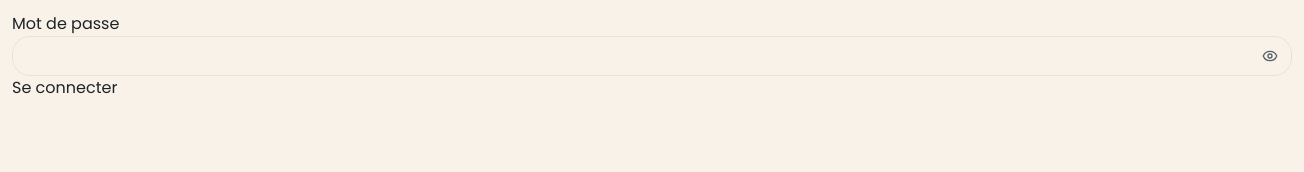
PasswordInput — visibility UX law › G. aria label and pressed state track visibility
The width and height of the screenshot is (1304, 172).
Click the button named "Afficher le mot de passe" at (1270, 56), box [1248,36,1292,76]
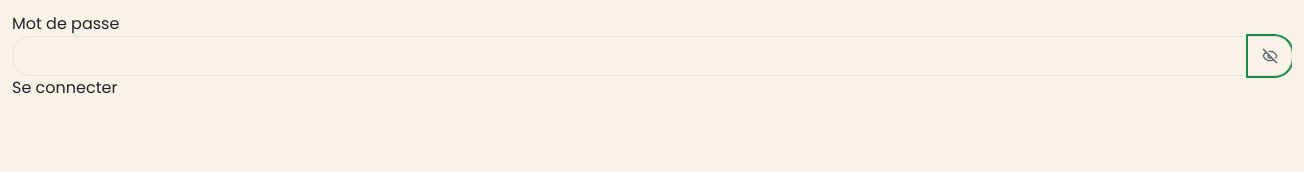
Now the button named "Masquer le mot de passe" is pressed, box [1248,36,1292,76]
